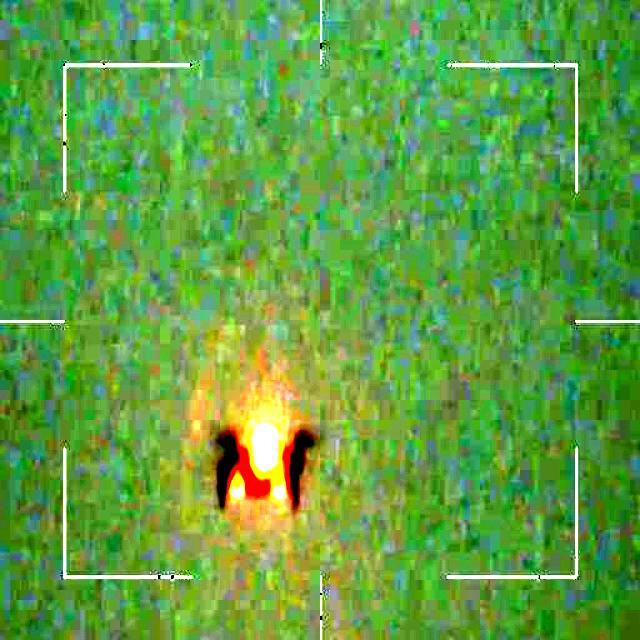bird: (215, 408, 316, 514)
